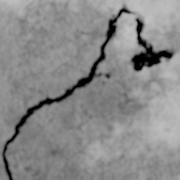brick: (6, 0, 179, 179), (0, 0, 120, 179)
crack: (1, 0, 177, 179)
